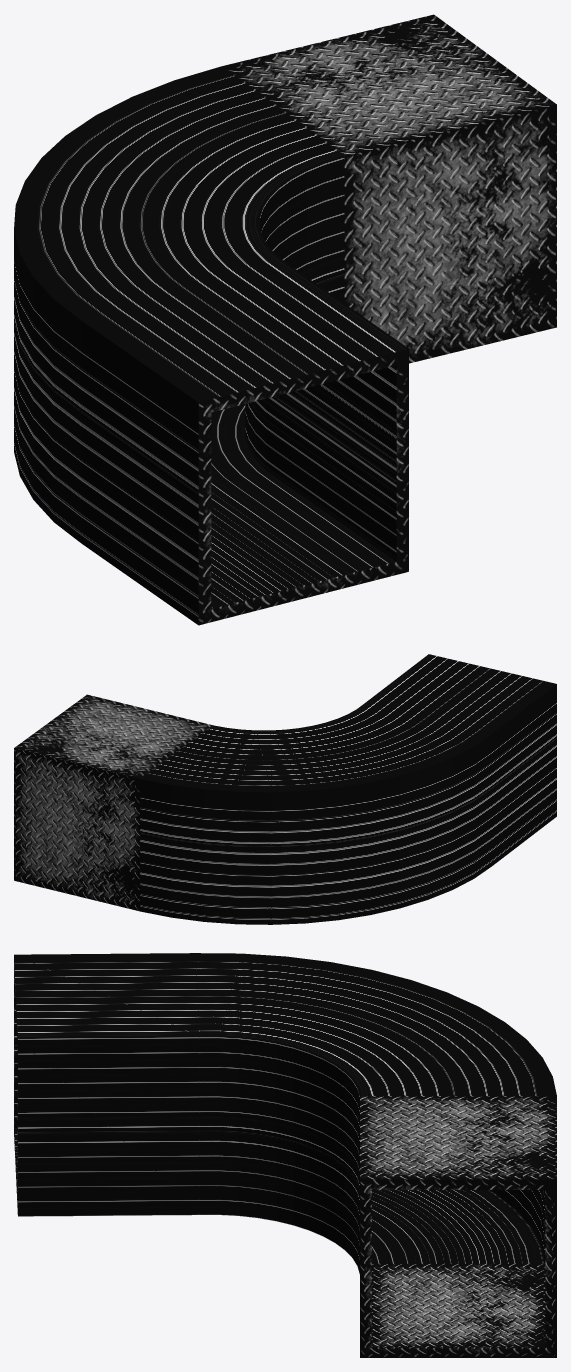
File: VentTurnO.fbx
The picture shows the model from 3 angles, top to bottom: view 1: azimuth 30°, elevation 25°; view 2: azimuth 150°, elevation 25°; view 3: azimuth 270°, elevation 25°; orthographic projection. The views are drawn at different scales.
Visible parts, largest first — view 1: Cube; view 2: Cube; view 3: Cube.
Boxes of the visible parts, x1,y1,x2,y2 form: Cube: [14, 14, 556, 625]; Cube: [14, 654, 556, 924]; Cube: [14, 953, 556, 1357].
Size of the model in its own units: 543 by 200 by 551.
1 material, 1 textured.
